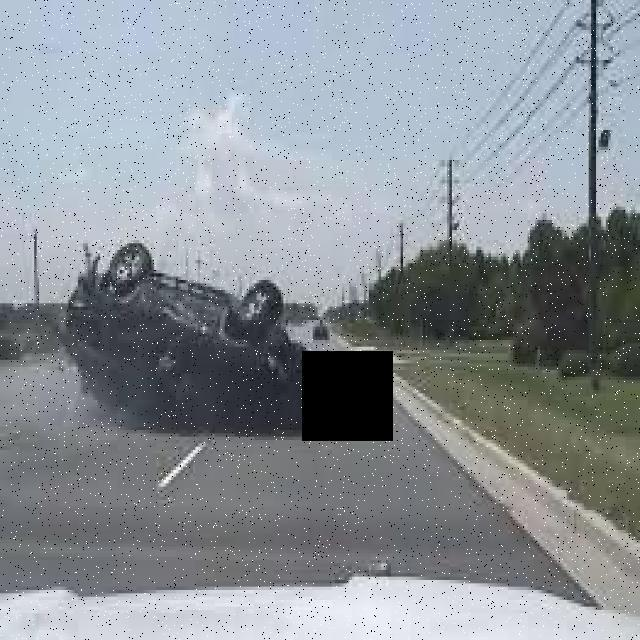single accident: (43, 183, 390, 475)
